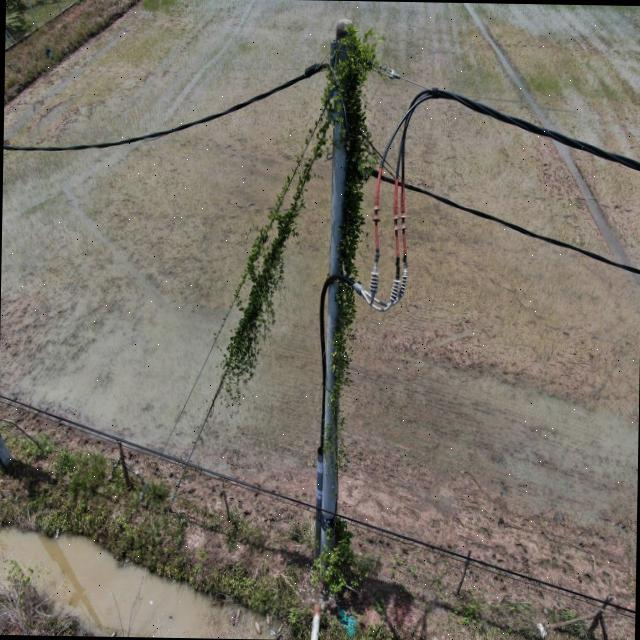critical vegetation: (206, 16, 387, 521)
